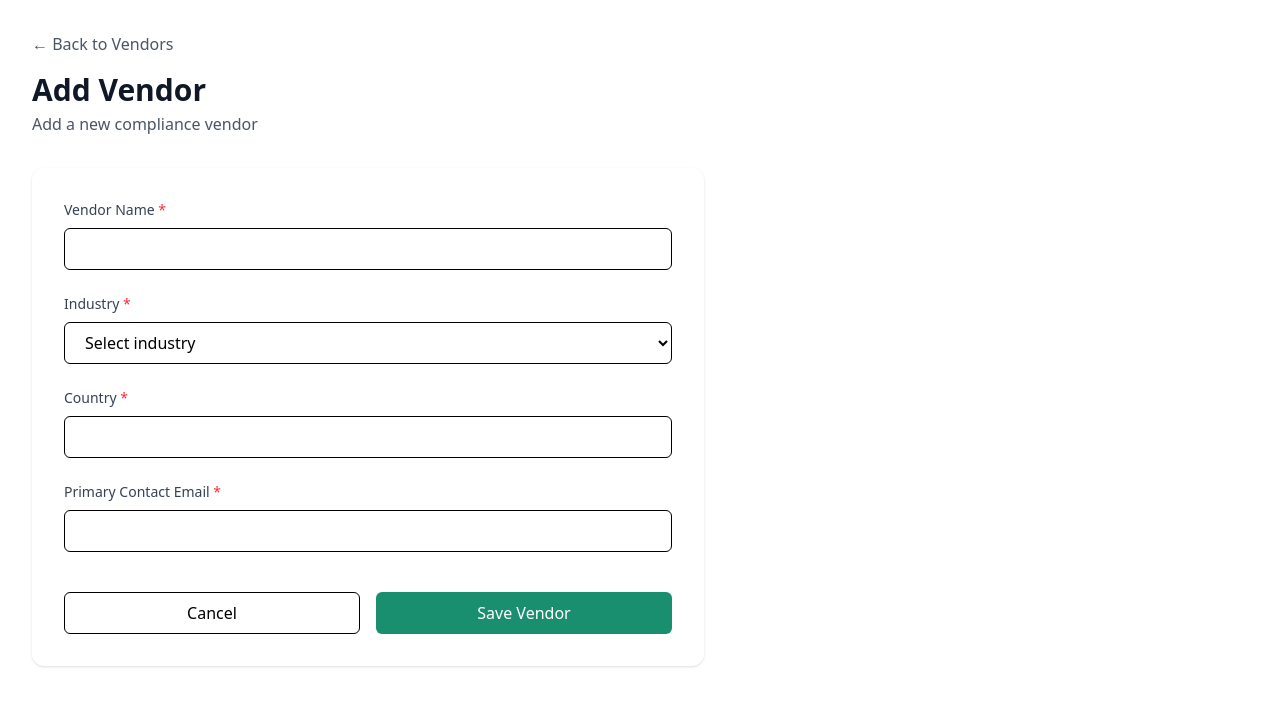
it: AddVendor › shows email confirmation modal after vendor created
The image size is (1280, 720).
Type "Test Vendor" into the field below "Vendor Name" at x=368, y=249, box [64,228,672,270]
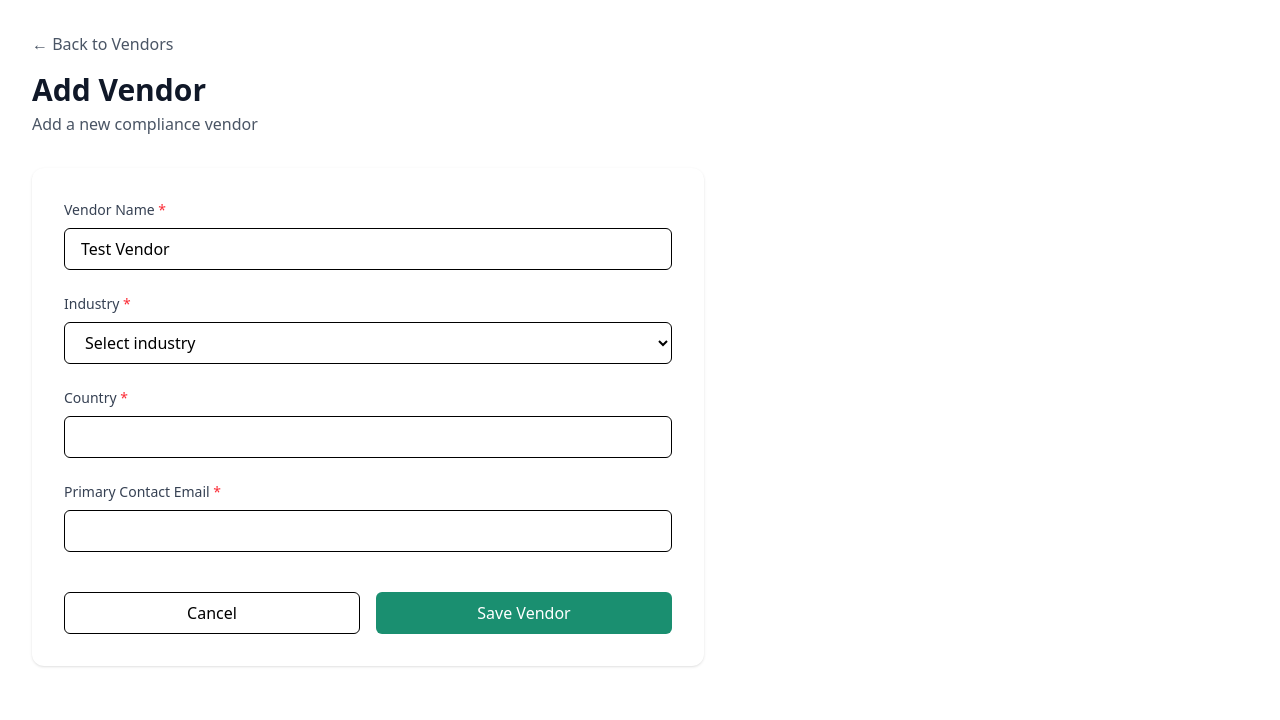
Type "India" into the field below "Country" at x=368, y=437, box [64,416,672,458]
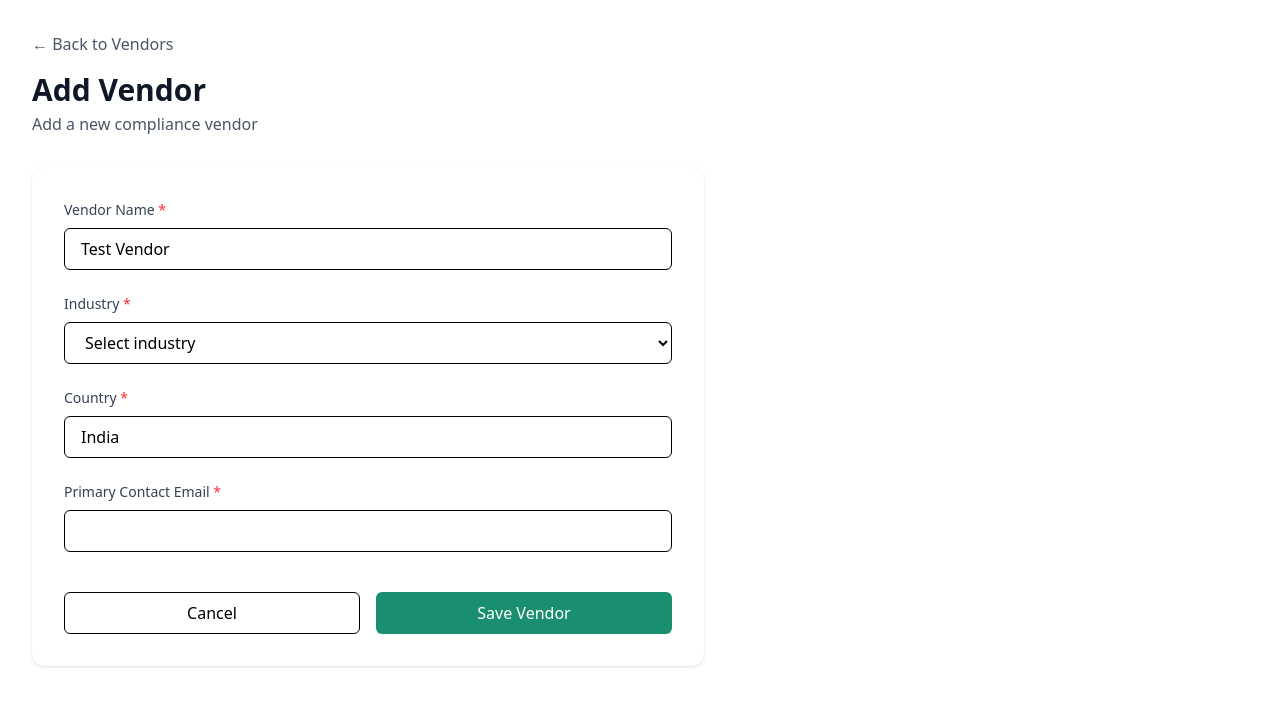
Type "t@t.com" into the field below "Primary Contact Email" at x=368, y=531, box [64,510,672,552]
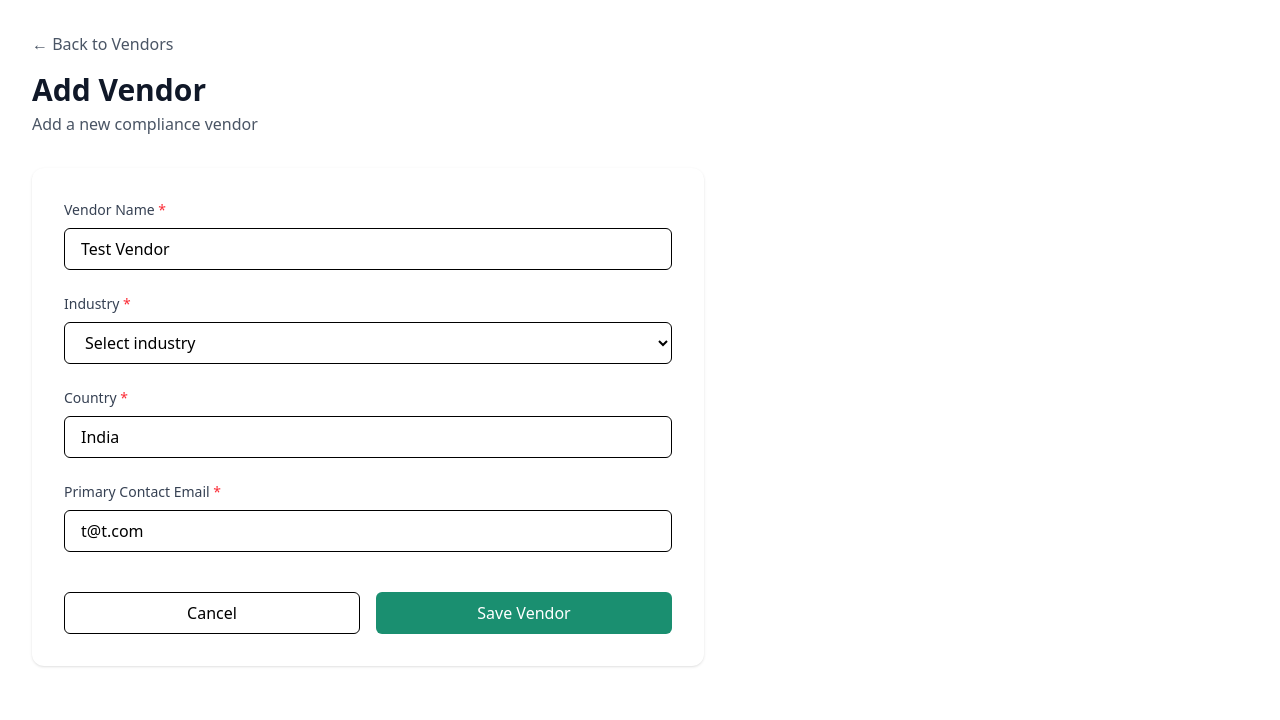
Select "Technology" in the dropdown at x=368, y=343, box [64,322,672,364]
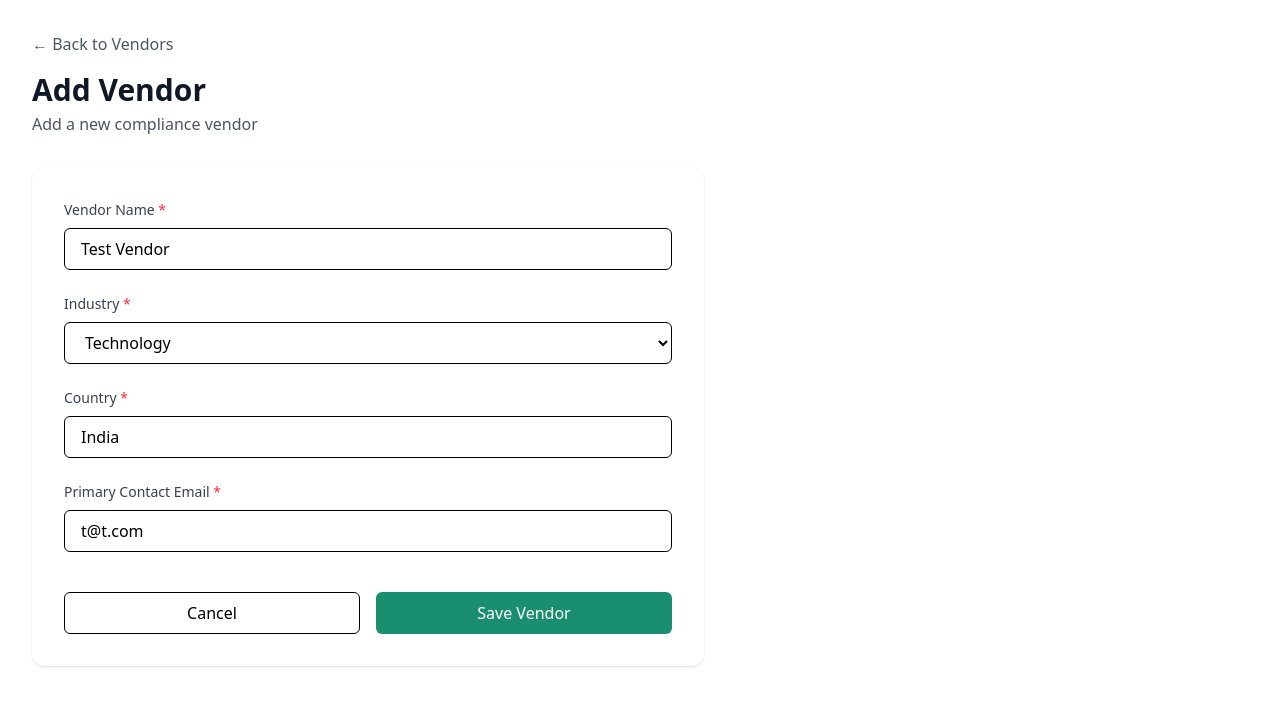
Click the button "Save Vendor" at x=524, y=613, box [376,592,672,634]
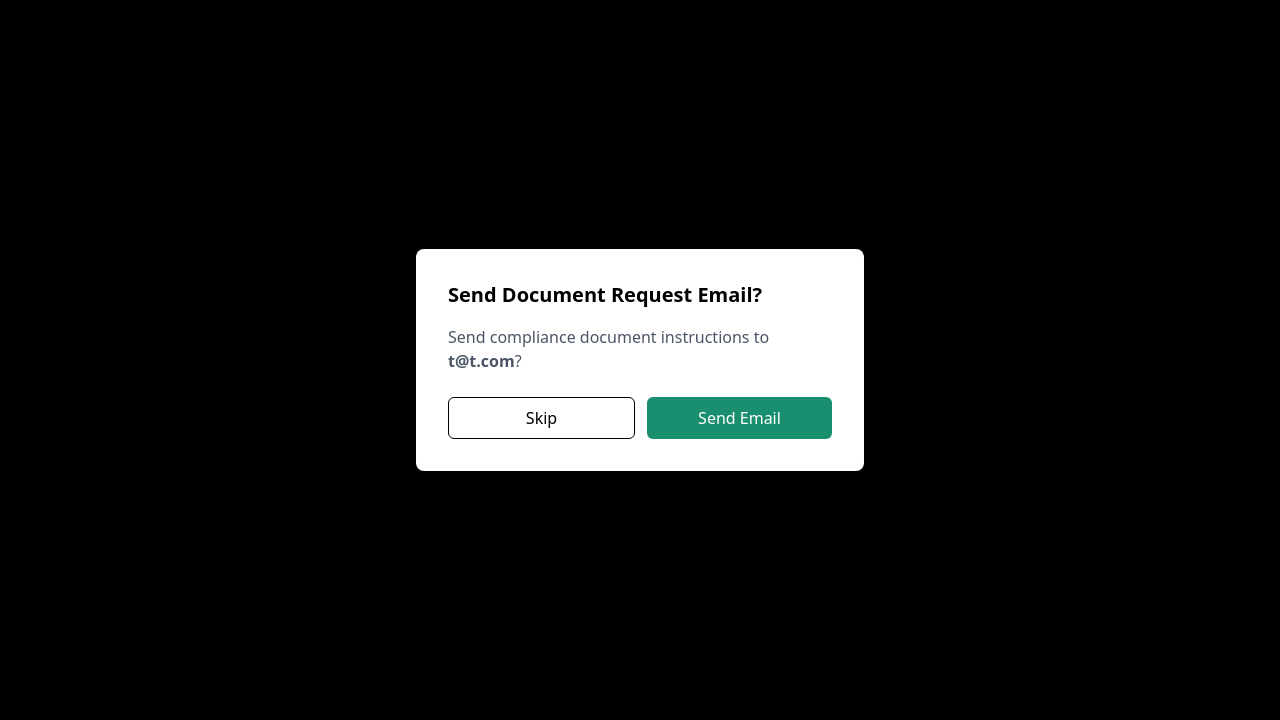
Result: the heading "Send Document Request Email?" is shown at [448,281,762,308]
